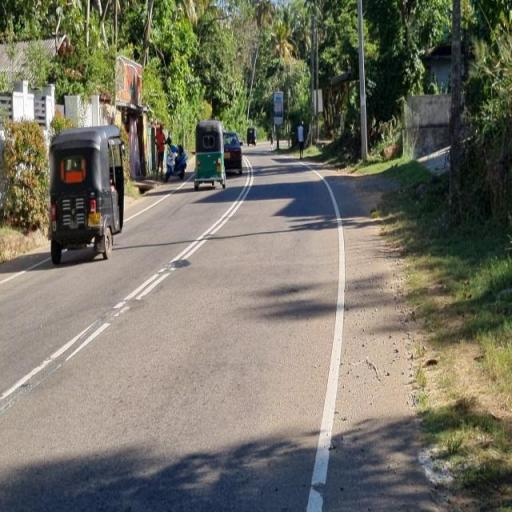double_white_line: (111, 158, 253, 316)
